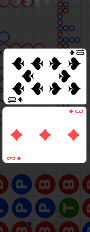10C: (7, 96, 23, 104)
3D: (5, 156, 22, 162)
